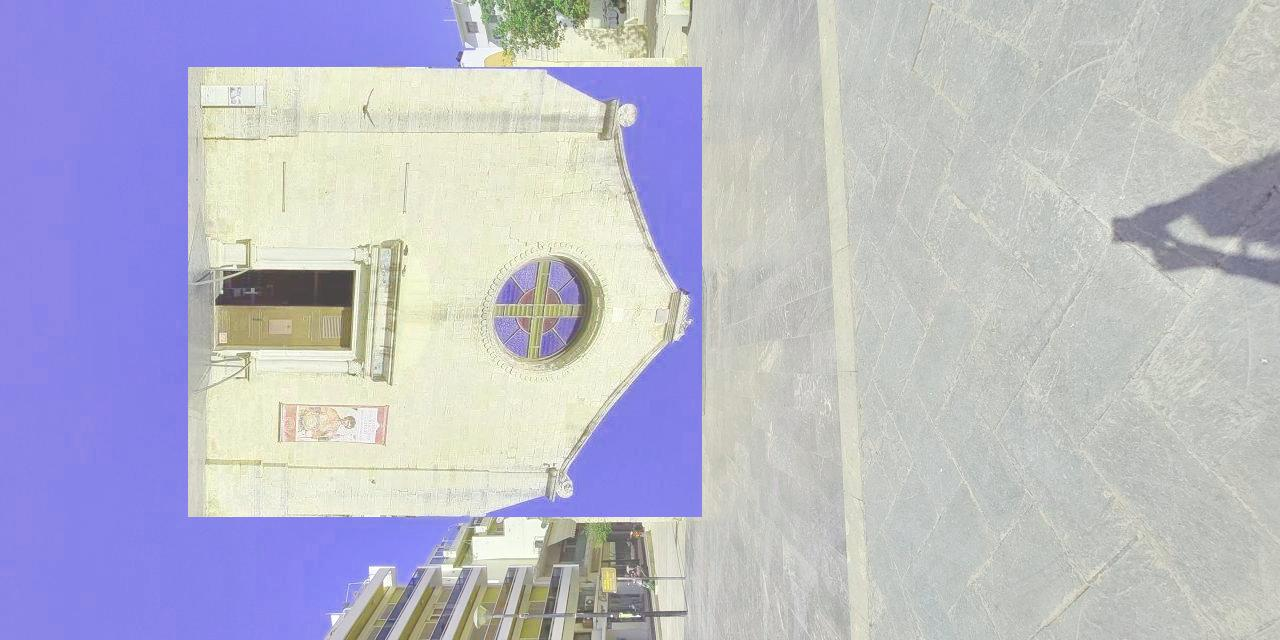Agia Aikaterini: (189, 68, 703, 518)
